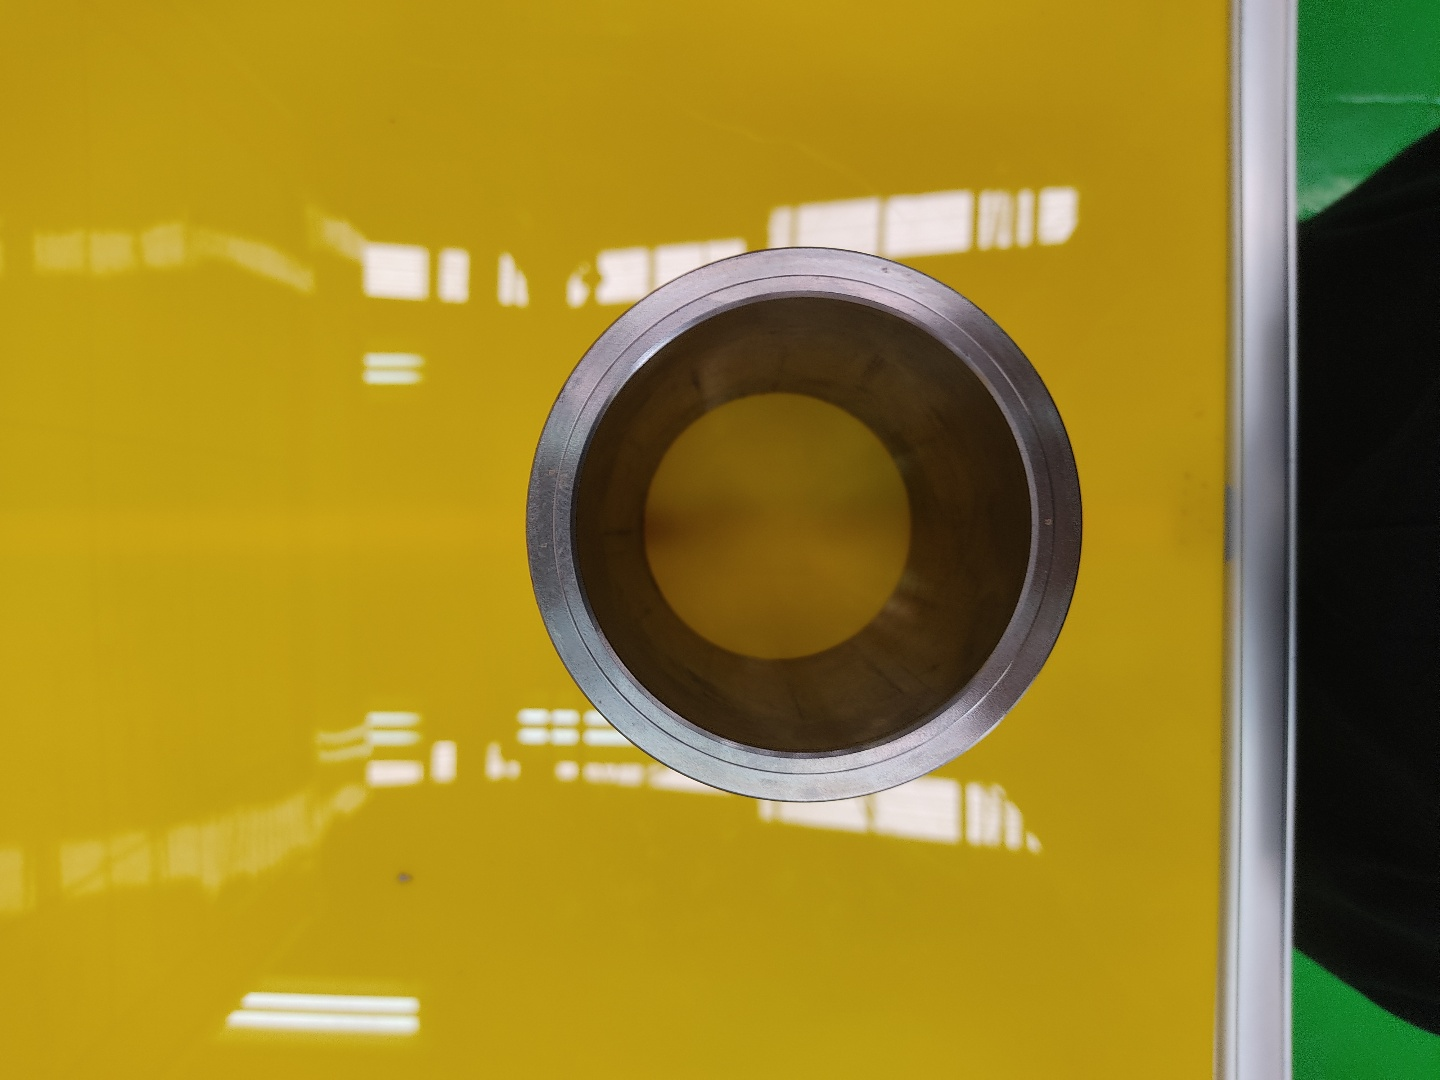cylinder: (519, 241, 1086, 807)
